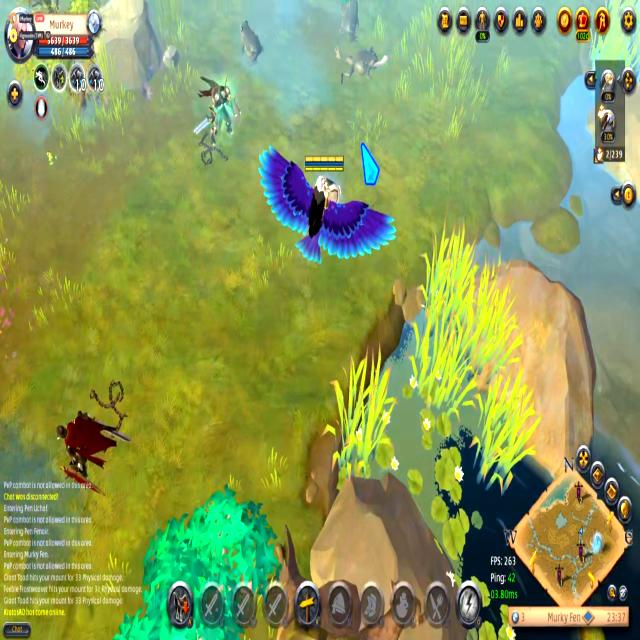ore: (46, 399, 138, 501), (187, 69, 247, 153), (235, 15, 265, 68), (338, 0, 365, 47)
red: (255, 138, 399, 290)
wisp caged: (106, 477, 286, 640)
